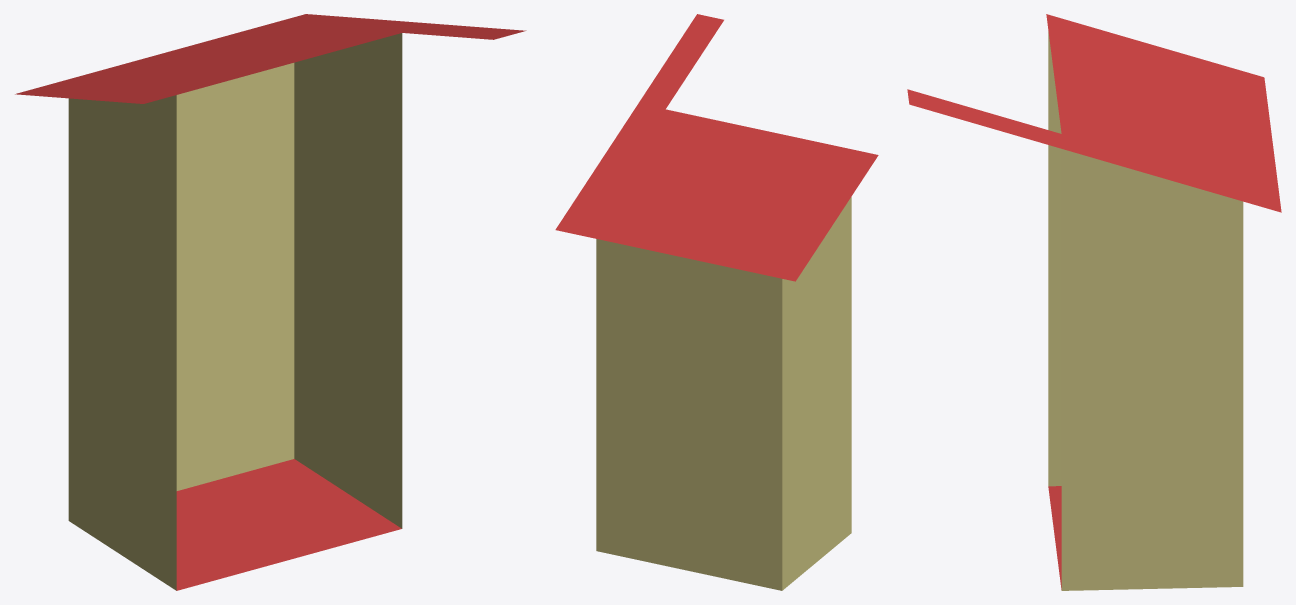
3 views of the same model, side by side, from view 1: azimuth 30°, elevation 25°; view 2: azimuth 150°, elevation 25°; view 3: azimuth 270°, elevation 25° (orthographic). The views are drawn at different scales.
Size of the model in its own units: 4.68 by 5.15 by 7.67.
